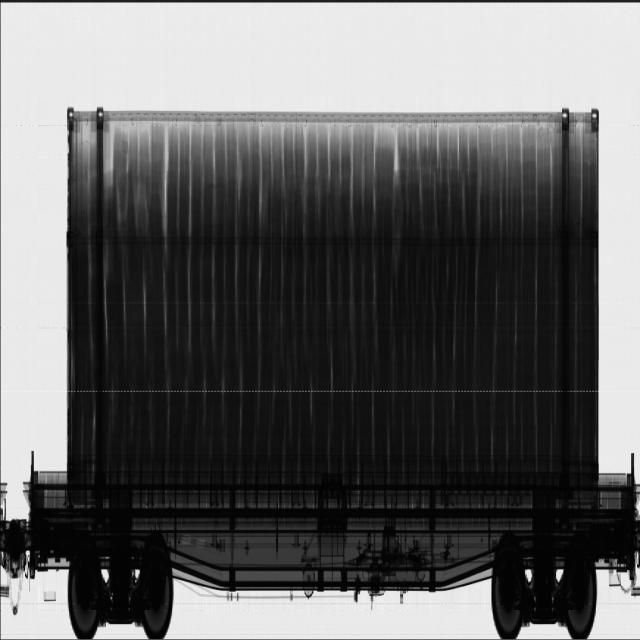clothes: (68, 127, 595, 470)
